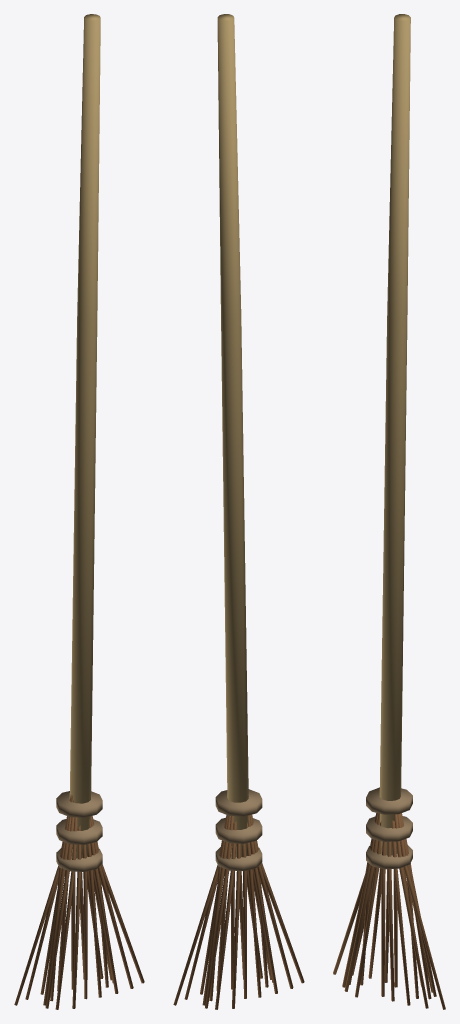
The model's file is tavara-luuta.glb.
3 renders of one model, left to right at view 1: azimuth 30°, elevation 25°; view 2: azimuth 210°, elevation 25°; view 3: azimuth 330°, elevation 25°, orthographic.
Visible parts, largest first — view 1: tavara-luuta; view 2: tavara-luuta; view 3: tavara-luuta.
Part boxes in pixels (x1=…): tavara-luuta: x1=14, y1=14, x2=144, y2=1009; tavara-luuta: x1=173, y1=14, x2=304, y2=1009; tavara-luuta: x1=333, y1=14, x2=445, y2=1009.
Bounding box in the file's own units: 0.2339 × 1.79 × 0.0973.
